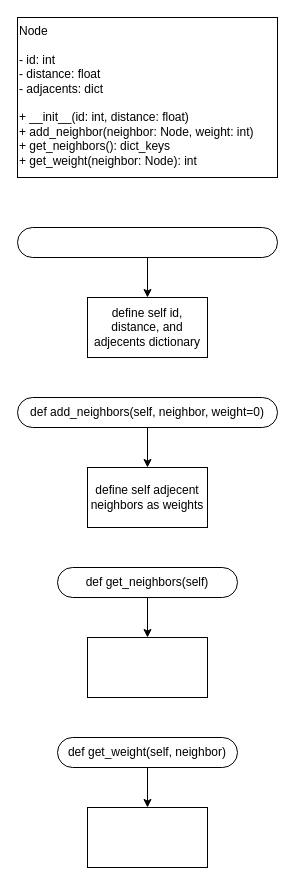
Image size: 295x885. Some labels were removed from this diagram. Each missing label, with the centre of its shape:
"def __init__(self, id, distance=float('inf'))" belongs at [147,242].
"return adjecent keys" belongs at [147,667].
"return adjecent neighbor" belongs at [147,837].
